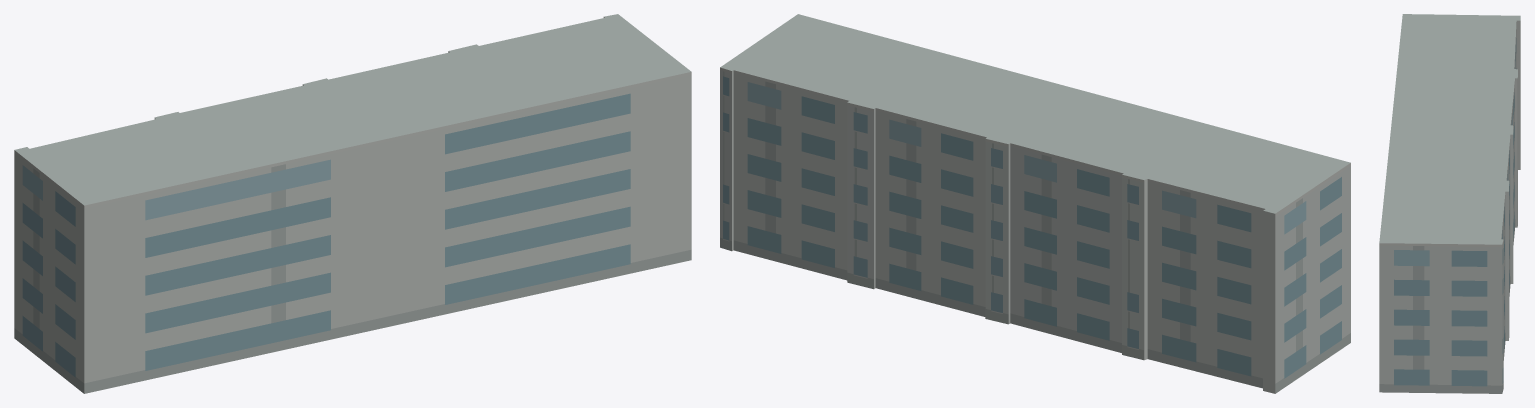
File: survey-upis-32736901.glb
3 renders of one model, left to right at view 1: azimuth 30°, elevation 25°; view 2: azimuth 150°, elevation 25°; view 3: azimuth 270°, elevation 25°, orthographic. The views are drawn at different scales.
Visible parts, largest first — view 1: survey-upis-32736901.tmp; view 2: survey-upis-32736901.tmp; view 3: survey-upis-32736901.tmp.
Part boxes in pixels (box(x1,y1,x2,y2)): survey-upis-32736901.tmp: box(14, 14, 691, 393); survey-upis-32736901.tmp: box(720, 14, 1350, 393); survey-upis-32736901.tmp: box(1379, 14, 1520, 393).
Bounding box in the file's own units: 50.56 × 15.25 × 13.11.
